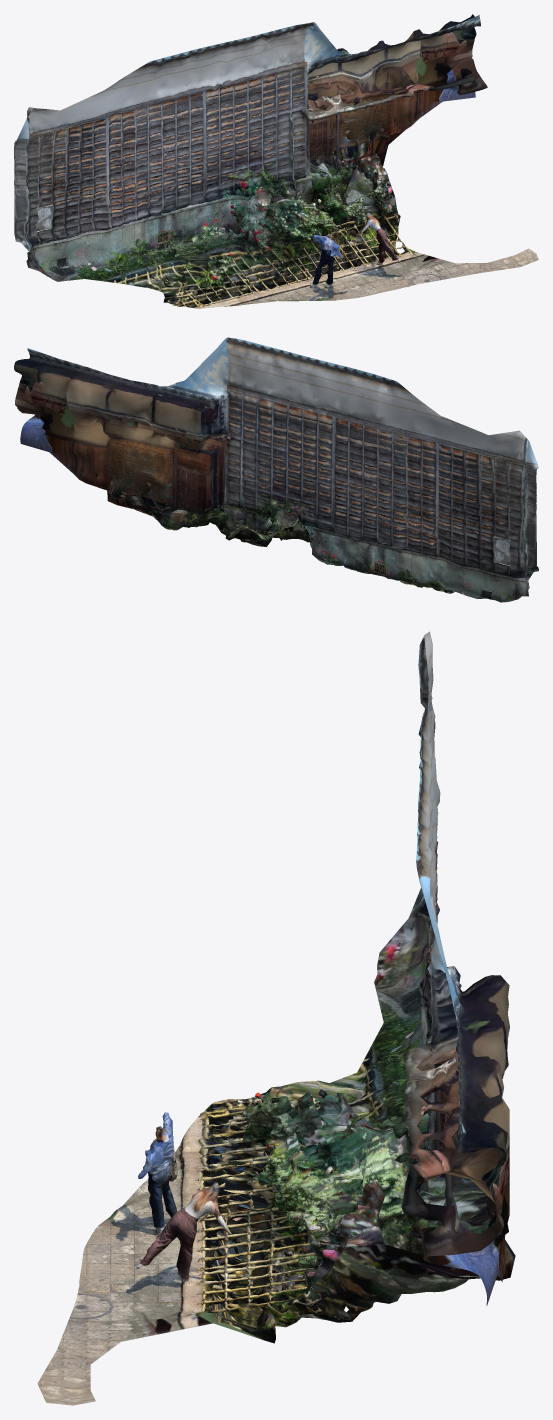
File: ningen1.glb
The picture shows the model from 3 angles, top to bottom: view 1: azimuth 30°, elevation 25°; view 2: azimuth 150°, elevation 25°; view 3: azimuth 270°, elevation 25°; orthographic projection. The views are drawn at different scales.
Parts seen in each view (by area): view 1: baked_mesh; view 2: baked_mesh; view 3: baked_mesh.
Part boxes in pixels (bbox=[...]): baked_mesh: bbox=[14, 14, 538, 308]; baked_mesh: bbox=[14, 337, 538, 602]; baked_mesh: bbox=[37, 631, 515, 1405].
Bounding box in the file's own units: 2.89 × 1.29 × 1.25.
1 material, 1 textured.
